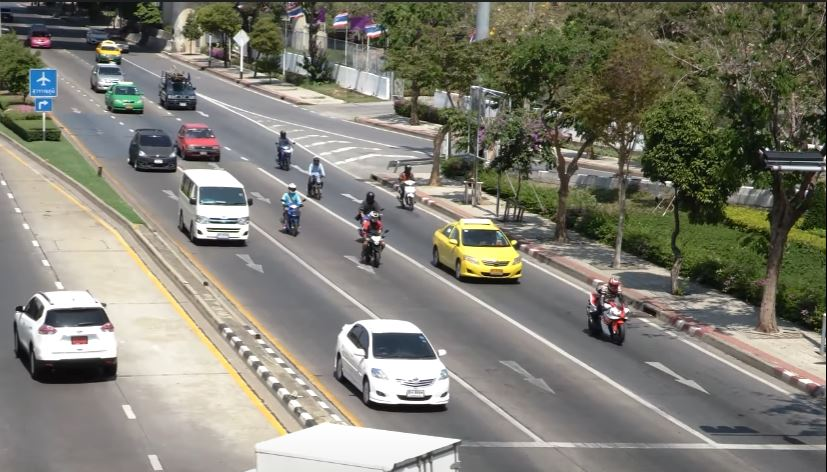Bus: (176, 165, 252, 243)
Car: (330, 317, 453, 412), (13, 290, 122, 386), (433, 216, 526, 288), (127, 127, 176, 173), (176, 120, 223, 161), (158, 68, 198, 111), (106, 81, 144, 114), (89, 61, 125, 92), (95, 39, 123, 64), (27, 27, 52, 48), (85, 28, 108, 45)
Motorcycle: (585, 274, 629, 345), (356, 209, 388, 267), (280, 183, 308, 235), (397, 164, 419, 212), (355, 190, 385, 225), (307, 154, 326, 202), (274, 130, 294, 172)
